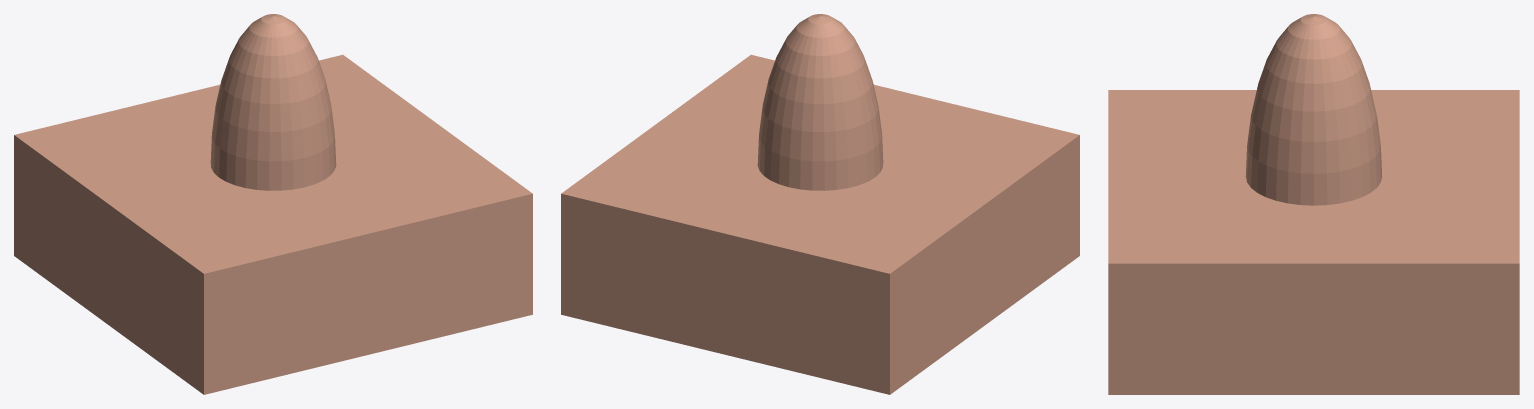
File: place-hiroshima.glb
The picture shows the model from 3 angles, left to right: view 1: azimuth 30°, elevation 25°; view 2: azimuth 150°, elevation 25°; view 3: azimuth 270°, elevation 25°; orthographic projection. The views are drawn at different scales.
Parts seen in each view (by area): view 1: place-hiroshima; view 2: place-hiroshima; view 3: place-hiroshima.
Boxes of the visible parts, x1,y1,x2,y2 form: place-hiroshima: [14, 14, 532, 394]; place-hiroshima: [561, 14, 1079, 394]; place-hiroshima: [1108, 14, 1519, 394].
Bounding box in the file's own units: 31.98 × 25 × 31.98.
